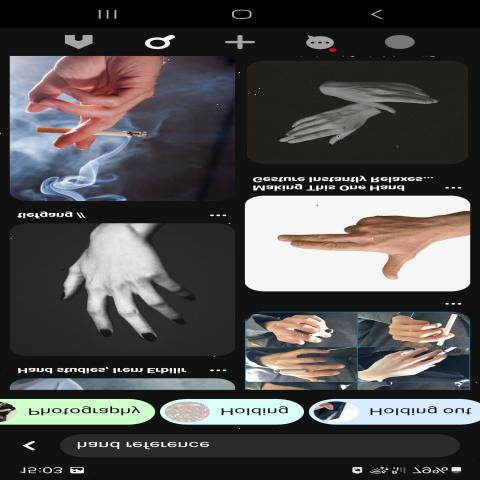Hands: (33, 235, 210, 359), (23, 54, 196, 161), (264, 205, 449, 289), (306, 75, 454, 114), (273, 109, 393, 156), (261, 349, 352, 381)
